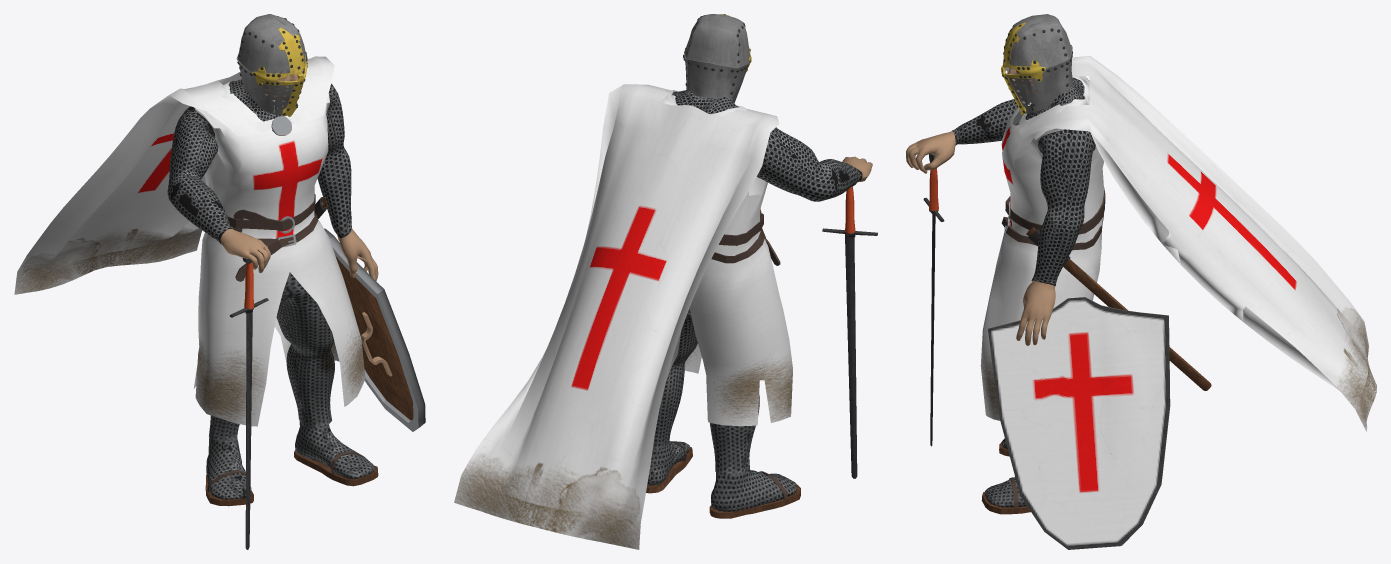
File: original.glb
3 views of the same model, side by side, from view 1: azimuth 30°, elevation 25°; view 2: azimuth 150°, elevation 25°; view 3: azimuth 270°, elevation 25° (orthographic). The views are drawn at different scales.
Parts seen in each view (by area): view 1: ASH3D_Object_6, ASH3D_Object003_templar_0, ASH3D_Object001_templar_0, ASH3D_Object004_templar_0; view 2: ASH3D_Object003_templar_0, ASH3D_Object_6, ASH3D_Object004_templar_0; view 3: ASH3D_Object001_templar_0, ASH3D_Object003_templar_0, ASH3D_Object_6, ASH3D_Object004_templar_0.
Boxes of the visible parts, x1,y1,x2,y2 form: ASH3D_Object_6: [167, 14, 378, 506]; ASH3D_Object003_templar_0: [14, 56, 334, 294]; ASH3D_Object001_templar_0: [324, 228, 425, 431]; ASH3D_Object004_templar_0: [229, 256, 268, 549]; ASH3D_Object003_templar_0: [454, 84, 779, 549]; ASH3D_Object_6: [646, 14, 872, 518]; ASH3D_Object004_templar_0: [822, 183, 877, 478]; ASH3D_Object001_templar_0: [988, 297, 1170, 549]; ASH3D_Object003_templar_0: [1019, 56, 1376, 431]; ASH3D_Object_6: [906, 14, 1211, 514]; ASH3D_Object004_templar_0: [923, 154, 944, 446].
Size of the model in its own units: 1.1 by 1.82 by 1.67.
Materials: 1 (1 with a texture image).
